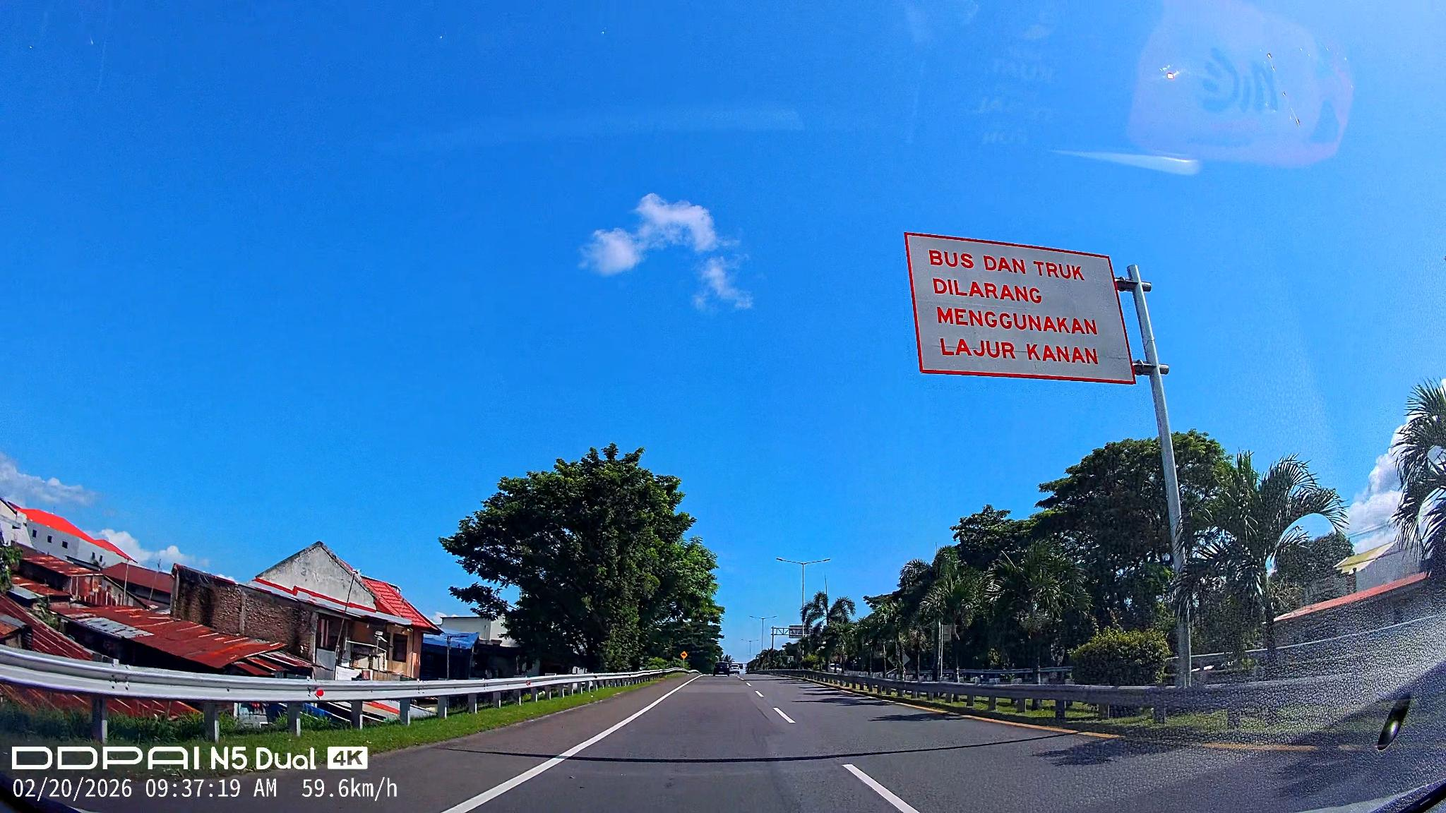rambu_teks: (902, 229, 1138, 386)
